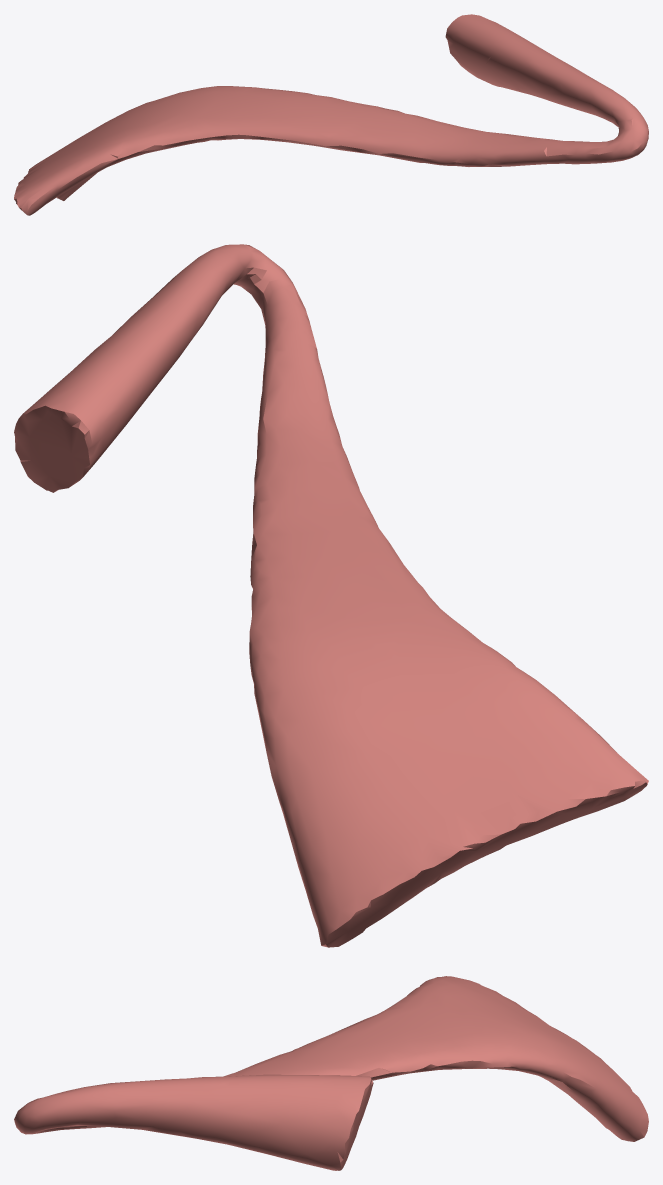
Rendered from fma54129-f_mm2222m.glb.
The picture shows the model from 3 angles, top to bottom: view 1: azimuth 30°, elevation 25°; view 2: azimuth 150°, elevation 25°; view 3: azimuth 270°, elevation 25°; orthographic projection. The views are drawn at different scales.
Parts seen in each view (by area): view 1: FMA54129-F_MM2222M; view 2: FMA54129-F_MM2222M; view 3: FMA54129-F_MM2222M.
Boxes of the visible parts, box(x1,y1,x2,y2) form: FMA54129-F_MM2222M: box(14, 14, 648, 215); FMA54129-F_MM2222M: box(14, 244, 648, 947); FMA54129-F_MM2222M: box(14, 976, 648, 1170).
Bounding box in the file's own units: 0.016 × 0.00676 × 0.0168.
